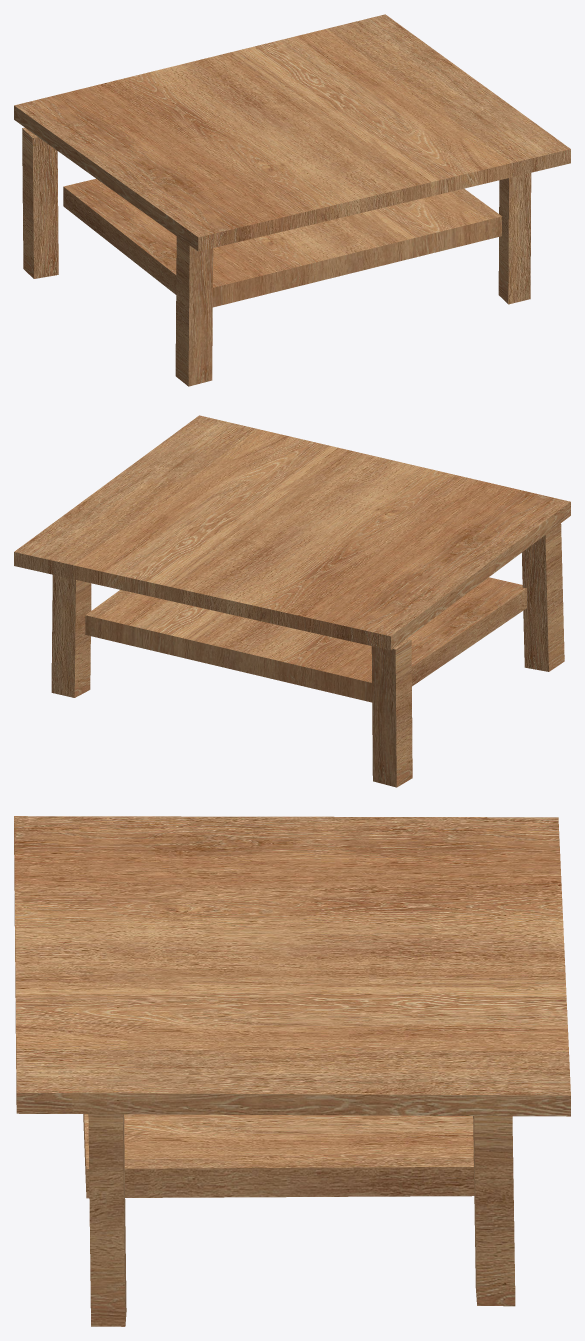
Rendered from 26488_ours.glb.
The picture shows the model from 3 angles, top to bottom: view 1: azimuth 30°, elevation 25°; view 2: azimuth 150°, elevation 25°; view 3: azimuth 270°, elevation 25°; orthographic projection. The views are drawn at different scales.
Visible parts, largest first — view 1: ParentEmpty; view 2: ParentEmpty; view 3: ParentEmpty.
Boxes of the visible parts, x1=… form: ParentEmpty: x1=14, y1=14, x2=570, y2=386; ParentEmpty: x1=14, y1=415, x2=570, y2=787; ParentEmpty: x1=14, y1=816, x2=570, y2=1326.
Size of the model in its own units: 1 by 0.4264 by 0.8601.
1 material, 1 textured.
